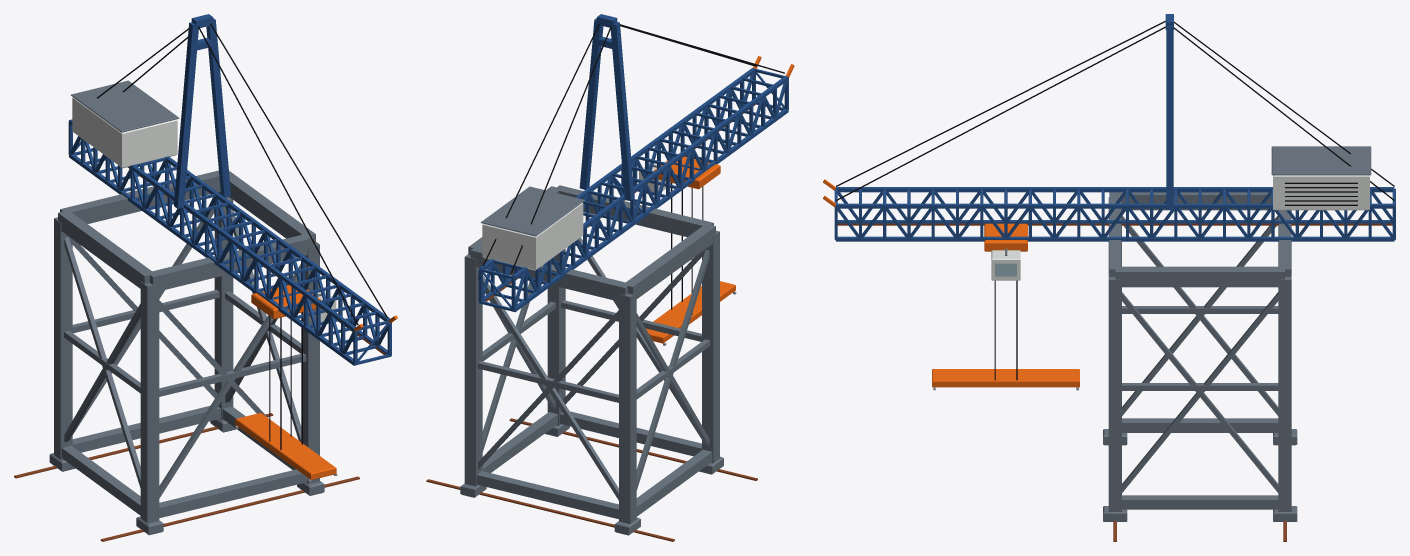
The model's file is HARBOR_14.obj.
3 views of the same model, side by side, from view 1: azimuth 30°, elevation 25°; view 2: azimuth 150°, elevation 25°; view 3: azimuth 270°, elevation 25° (orthographic). The views are drawn at different scales.
Visible parts, largest first — view 1: HARBOR_14__boom, HARBOR_14__legs, HARBOR_14__brace_x, HARBOR_14__brace_z, HARBOR_14__portal_beam, HARBOR_14__portal_beam_z, HARBOR_14__sill, HARBOR_14__a_frame, HARBOR_14__boom_cross, HARBOR_14__machinery_house, HARBOR_14__machinery_roof, HARBOR_14__spreader (+6 smaller); view 2: HARBOR_14__legs, HARBOR_14__boom, HARBOR_14__brace_x, HARBOR_14__brace_z, HARBOR_14__sill, HARBOR_14__a_frame, HARBOR_14__portal_beam, HARBOR_14__boom_cross, HARBOR_14__machinery_house, HARBOR_14__sill_z, HARBOR_14__machinery_roof, HARBOR_14__portal_beam_z (+5 smaller); view 3: HARBOR_14__boom, HARBOR_14__brace_z, HARBOR_14__legs, HARBOR_14__portal_beam_z, HARBOR_14__sill_z, HARBOR_14__machinery_house, HARBOR_14__machinery_roof, HARBOR_14__spreader, HARBOR_14__stays, HARBOR_14__a_frame, HARBOR_14__portal_beam, HARBOR_14__trolley_rails (+5 smaller).
Boxes of the visible parts, bbox=[...] form: HARBOR_14__boom: bbox=[68, 119, 391, 365]; HARBOR_14__legs: bbox=[54, 192, 319, 523]; HARBOR_14__brace_x: bbox=[72, 204, 306, 498]; HARBOR_14__brace_z: bbox=[64, 198, 301, 487]; HARBOR_14__portal_beam: bbox=[60, 170, 313, 291]; HARBOR_14__portal_beam_z: bbox=[58, 171, 315, 288]; HARBOR_14__sill: bbox=[72, 406, 307, 518]; HARBOR_14__a_frame: bbox=[174, 18, 230, 208]; HARBOR_14__boom_cross: bbox=[73, 141, 390, 365]; HARBOR_14__machinery_house: bbox=[72, 97, 177, 168]; HARBOR_14__machinery_roof: bbox=[71, 80, 179, 132]; HARBOR_14__spreader: bbox=[235, 413, 336, 479]; HARBOR_14__legs: bbox=[464, 230, 719, 523]; HARBOR_14__boom: bbox=[478, 68, 788, 312]; HARBOR_14__brace_x: bbox=[477, 237, 701, 500]; HARBOR_14__brace_z: bbox=[482, 250, 710, 490]; HARBOR_14__sill: bbox=[476, 411, 701, 519]; HARBOR_14__a_frame: bbox=[579, 18, 634, 200]; HARBOR_14__portal_beam: bbox=[470, 185, 713, 301]; HARBOR_14__boom_cross: bbox=[480, 69, 784, 311]; HARBOR_14__machinery_house: bbox=[482, 202, 583, 270]; HARBOR_14__sill_z: bbox=[482, 412, 712, 516]; HARBOR_14__machinery_roof: bbox=[481, 186, 584, 236]; HARBOR_14__portal_beam_z: bbox=[468, 186, 715, 298]; HARBOR_14__boom: bbox=[834, 187, 1395, 241]; HARBOR_14__brace_z: bbox=[1122, 215, 1278, 492]; HARBOR_14__legs: bbox=[1108, 197, 1291, 511]; HARBOR_14__portal_beam_z: bbox=[1115, 192, 1284, 287]; HARBOR_14__sill_z: bbox=[1122, 418, 1278, 509]; HARBOR_14__machinery_house: bbox=[1273, 175, 1369, 210]; HARBOR_14__machinery_roof: bbox=[1271, 146, 1371, 175]; HARBOR_14__spreader: bbox=[932, 369, 1079, 387]; HARBOR_14__stays: bbox=[836, 20, 1394, 200]; HARBOR_14__a_frame: bbox=[1166, 26, 1173, 210]; HARBOR_14__portal_beam: bbox=[1109, 192, 1291, 276]; HARBOR_14__trolley_rails: bbox=[837, 223, 1392, 225].
Size of the model in its own units: 24 by 42.05 by 47.21.
